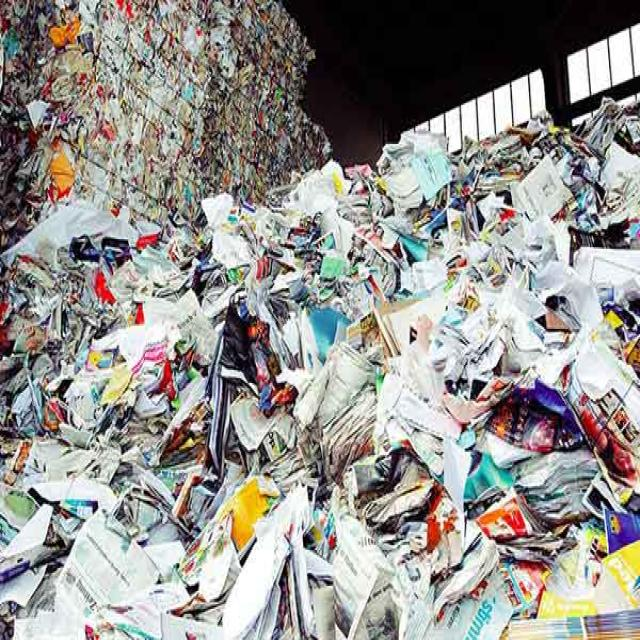Kertas: (70, 97, 640, 620)
